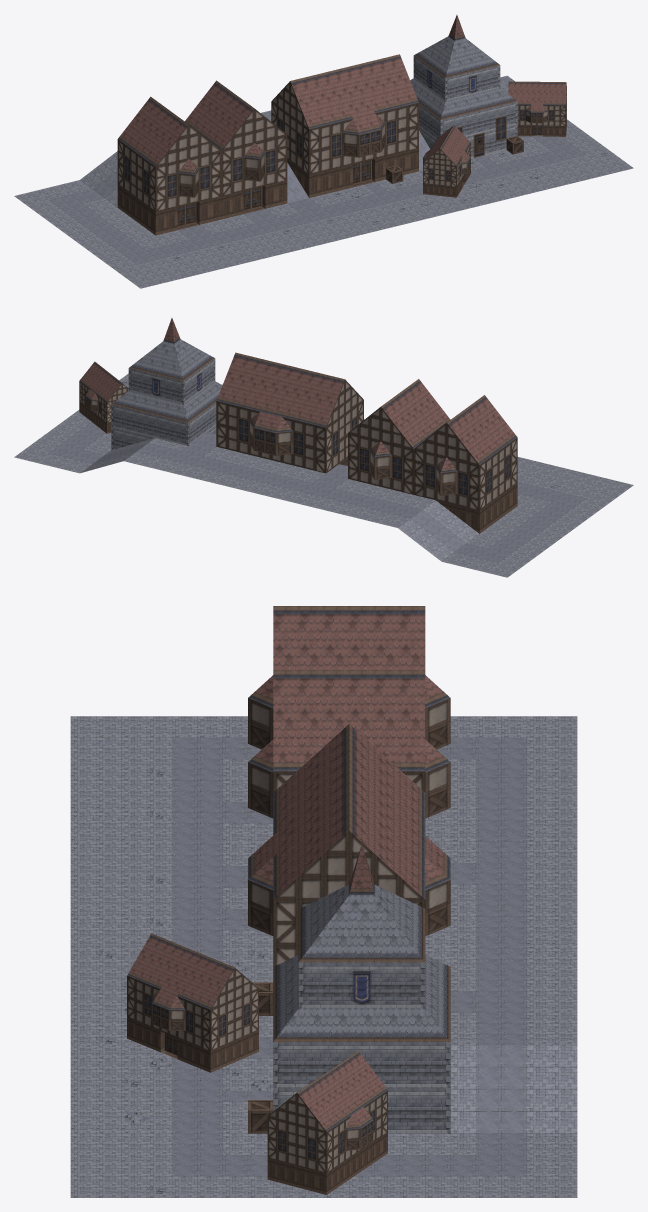
Rendered from village-1.glb.
3 renders of one model, top to bottom at view 1: azimuth 30°, elevation 25°; view 2: azimuth 150°, elevation 25°; view 3: azimuth 270°, elevation 25°, orthographic. The views are drawn at different scales.
Parts seen in each view (by area): view 1: EntityTrimesh.World, EntityTrimesh.HomeLarge, EntityTrimesh.Home, EntityTrimesh.Business, EntityCube.Home.002, EntityCube.Home.001; view 2: EntityTrimesh.World, EntityTrimesh.HomeLarge, EntityTrimesh.Home, EntityTrimesh.Business, EntityCube.Home.002; view 3: EntityTrimesh.World, EntityTrimesh.Business, EntityTrimesh.HomeLarge, EntityTrimesh.Home, EntityCube.Home.001, EntityCube.Home.002.
Boxes of the visible parts, x1=… form: EntityTrimesh.World: x1=14, y1=75, x2=633, y2=288; EntityTrimesh.HomeLarge: x1=117, y1=80, x2=287, y2=235; EntityTrimesh.Home: x1=271, y1=54, x2=418, y2=197; EntityTrimesh.Business: x1=410, y1=15, x2=517, y2=158; EntityCube.Home.002: x1=508, y1=81, x2=566, y2=136; EntityCube.Home.001: x1=423, y1=125, x2=470, y2=197; EntityTrimesh.World: x1=14, y1=373, x2=633, y2=577; EntityTrimesh.HomeLarge: x1=348, y1=379, x2=517, y2=533; EntityTrimesh.Home: x1=216, y1=352, x2=363, y2=473; EntityTrimesh.Business: x1=111, y1=318, x2=222, y2=450; EntityCube.Home.002: x1=79, y1=361, x2=128, y2=433; EntityTrimesh.World: x1=70, y1=716, x2=577, y2=1197; EntityTrimesh.Business: x1=273, y1=844, x2=450, y2=1133; EntityTrimesh.HomeLarge: x1=248, y1=606, x2=450, y2=818; EntityTrimesh.Home: x1=248, y1=724, x2=450, y2=966; EntityCube.Home.001: x1=127, y1=933, x2=258, y2=1072; EntityCube.Home.002: x1=267, y1=1051, x2=387, y2=1194.
Size of the model in its own units: 45 by 11 by 20.
Materials: 1 (1 with a texture image).
